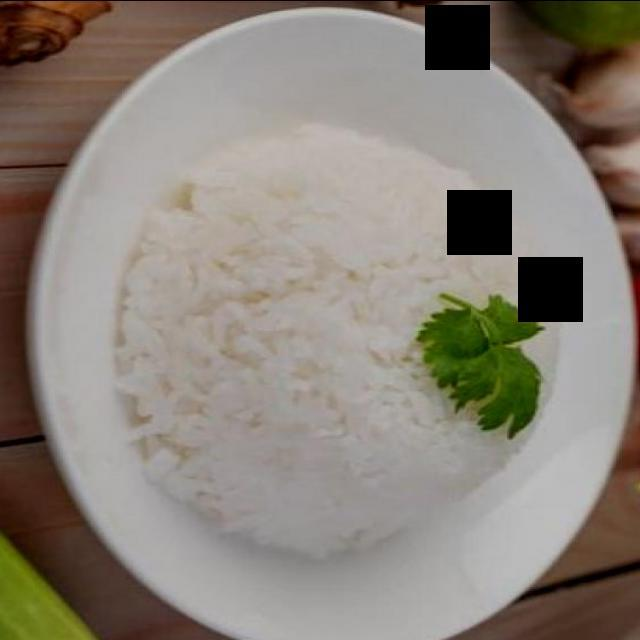rice: (115, 128, 568, 552)
